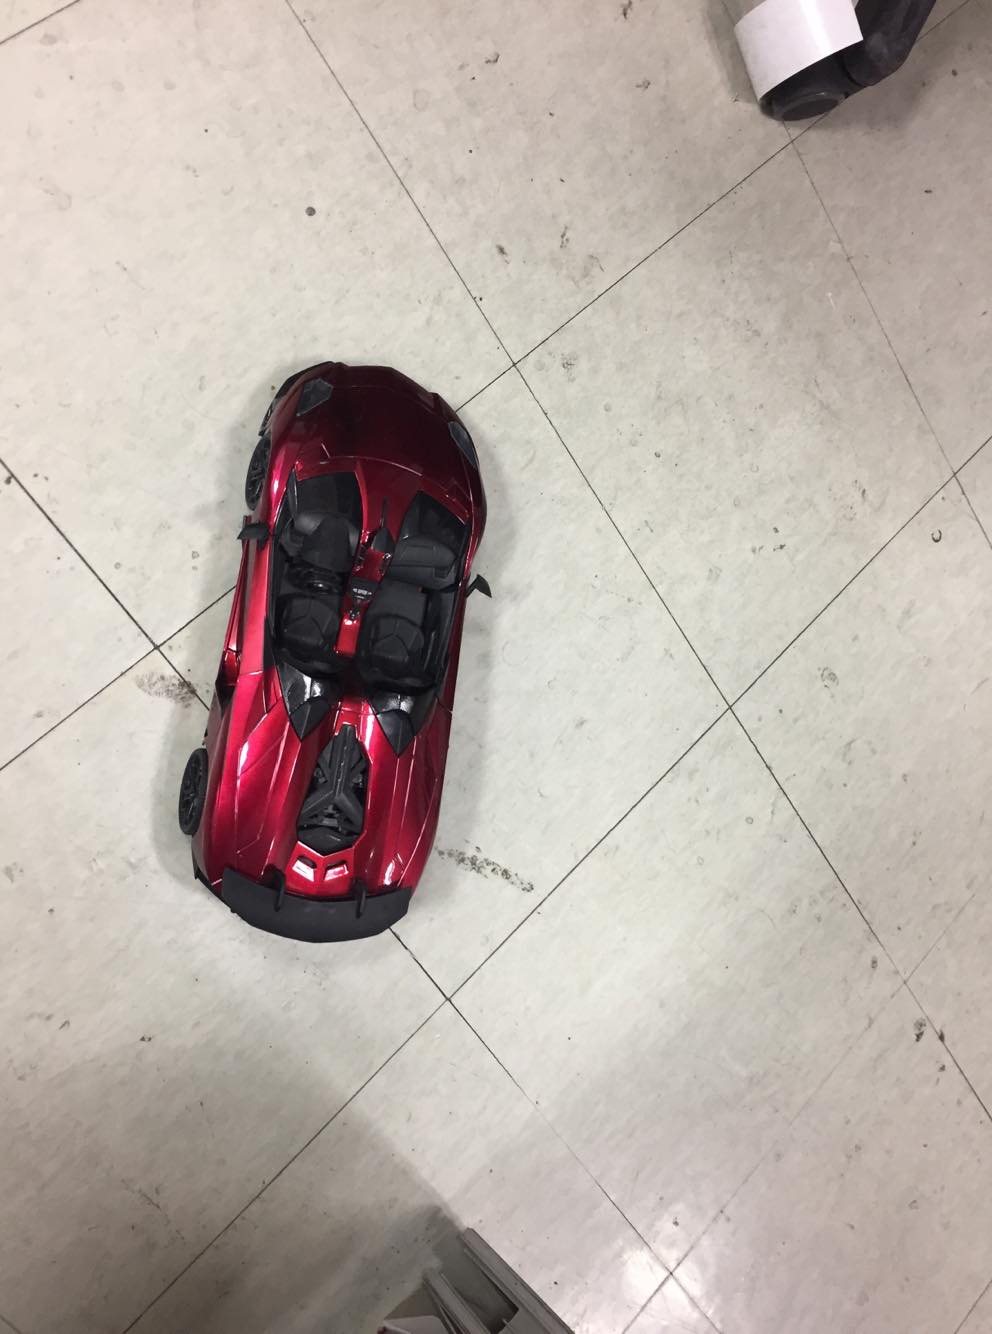car: (168, 327, 516, 959)
